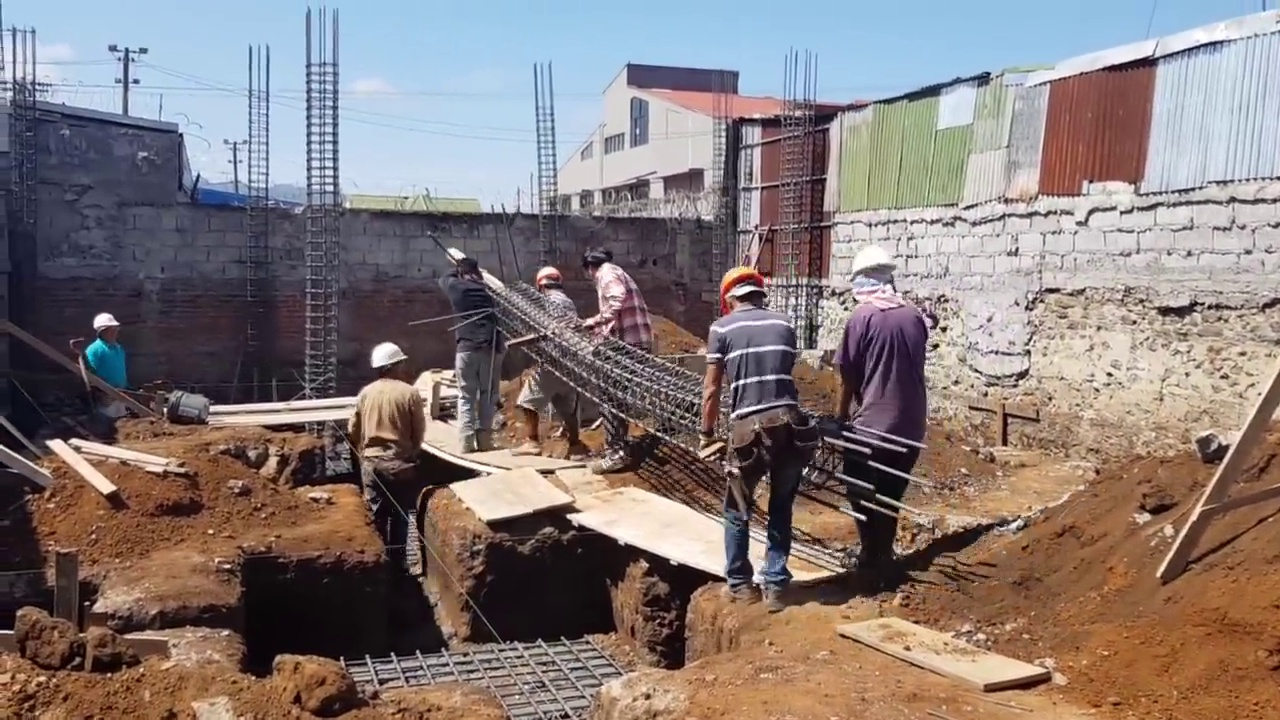helmet: (719, 264, 770, 308), (849, 245, 901, 281), (368, 340, 408, 369), (537, 267, 565, 288), (92, 314, 120, 333)
helmet-off: (582, 247, 613, 281), (457, 255, 480, 285)
helmet-on: (852, 244, 900, 300), (719, 265, 770, 317), (368, 341, 408, 383), (92, 313, 120, 347), (536, 267, 566, 295)
person: (824, 243, 933, 599), (705, 262, 811, 605), (348, 340, 438, 573), (582, 247, 651, 474), (511, 266, 588, 458), (441, 255, 506, 452), (77, 314, 128, 393)
